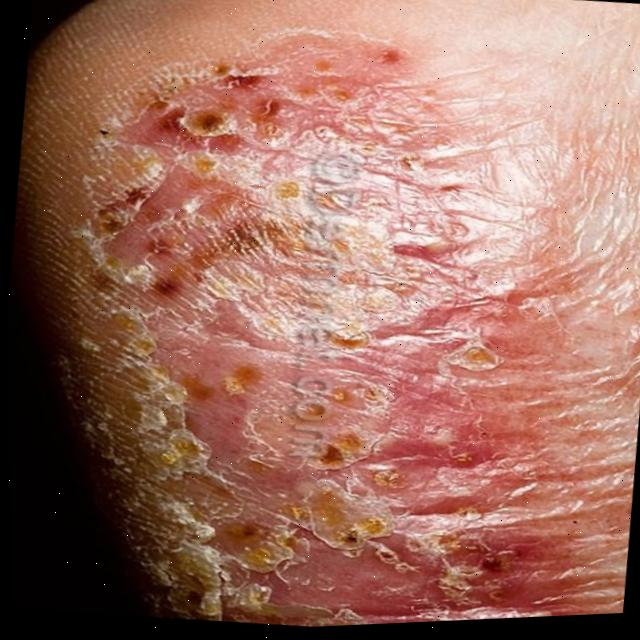Eczema: (30, 51, 564, 639)
